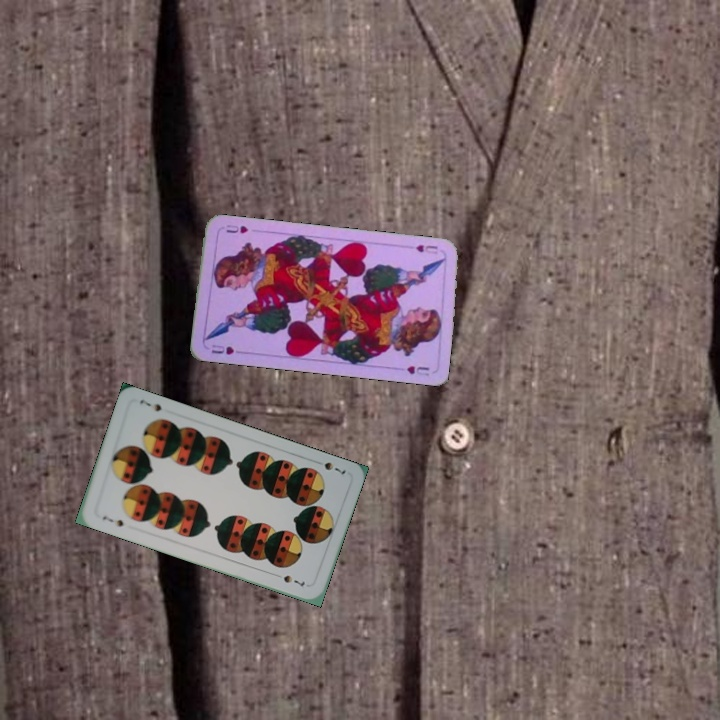HU: (207, 340, 237, 357), (412, 240, 440, 257)
S7: (320, 458, 348, 477), (98, 511, 126, 529)
